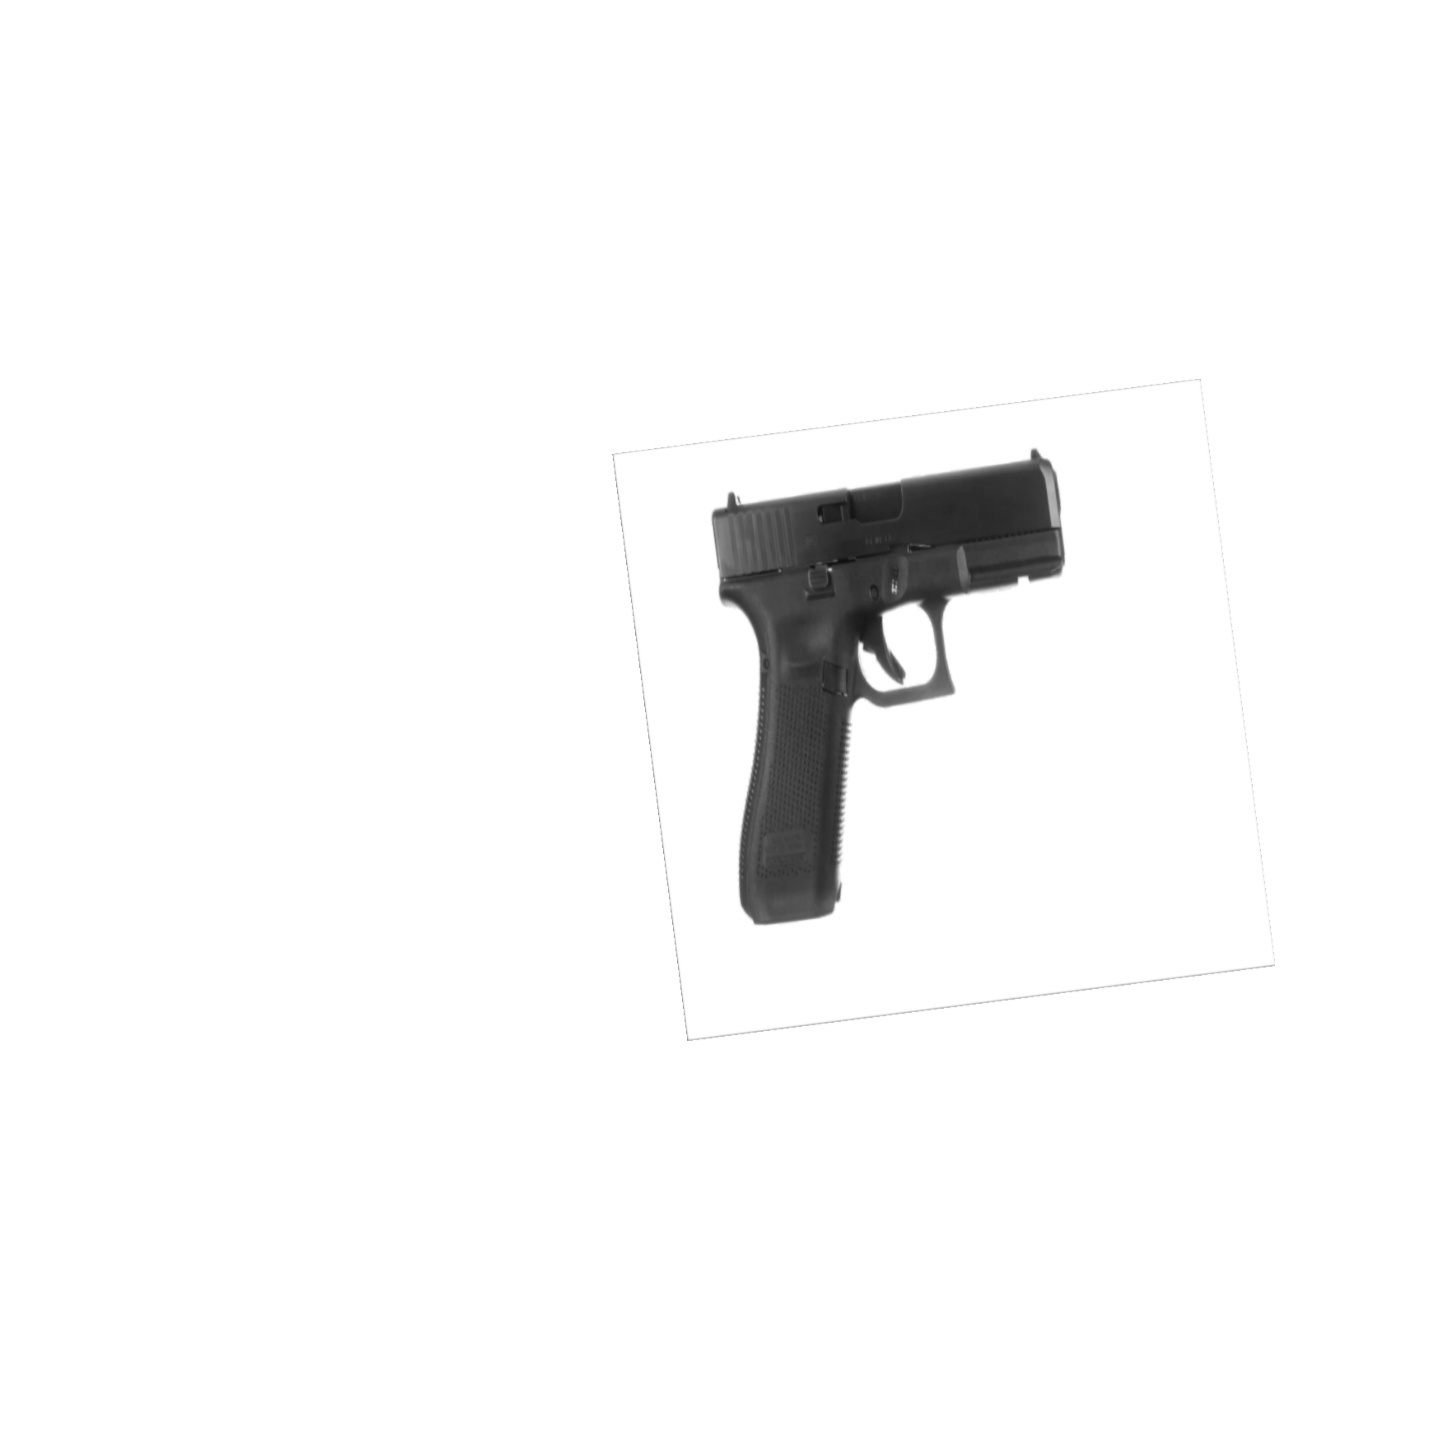gun: (708, 439, 1073, 928)
